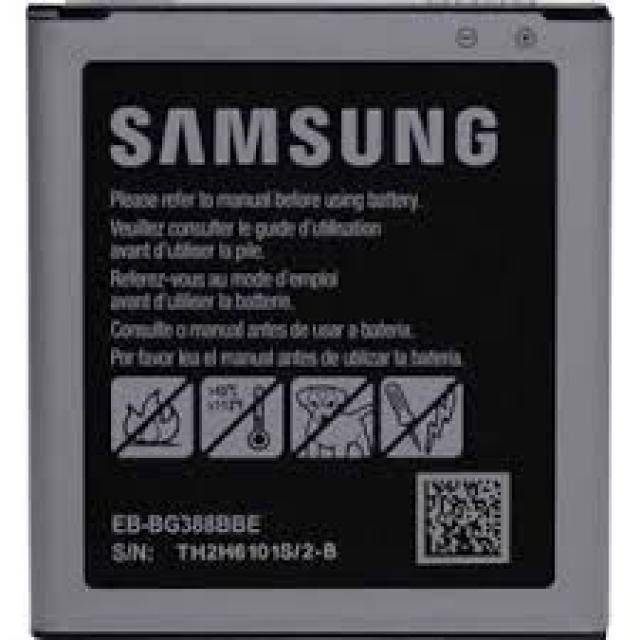hazard: (31, 11, 611, 633)
